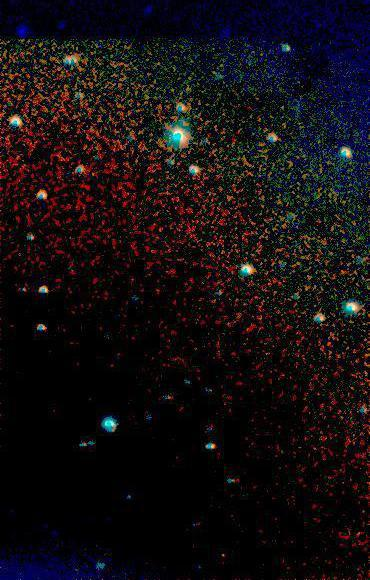star: (60, 554, 90, 580)
